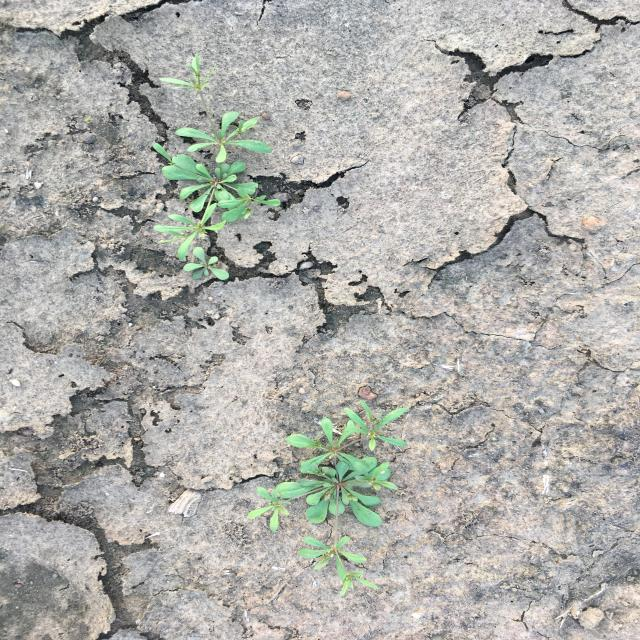Carpetweed: (245, 398, 412, 597), (150, 53, 282, 282)
